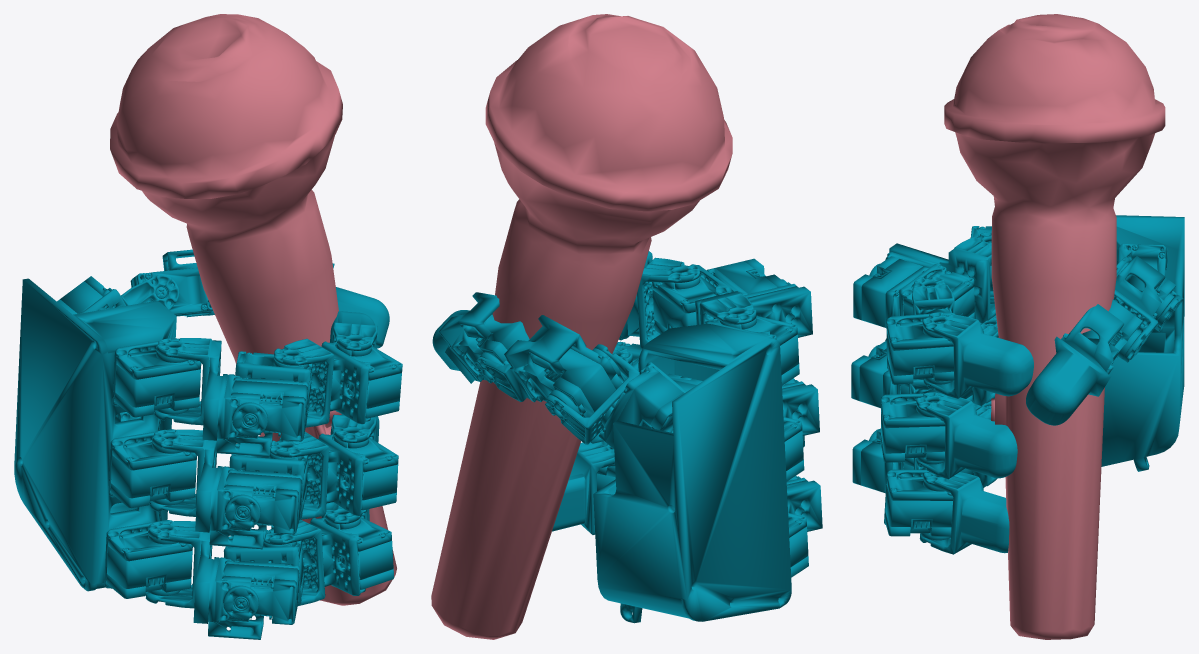
3 renders of one model, left to right at view 1: azimuth 30°, elevation 25°; view 2: azimuth 150°, elevation 25°; view 3: azimuth 270°, elevation 25°, orthographic. The views are drawn at different scales.
Visible parts, largest first — view 1: world; view 2: world; view 3: world.
Boxes of the visible parts, box(x1,y1,x2,y2) form: world: box(14, 14, 402, 639); world: box(431, 14, 822, 639); world: box(851, 14, 1184, 639).
Size of the model in its own units: 0.1663 by 0.3 by 0.1618.
